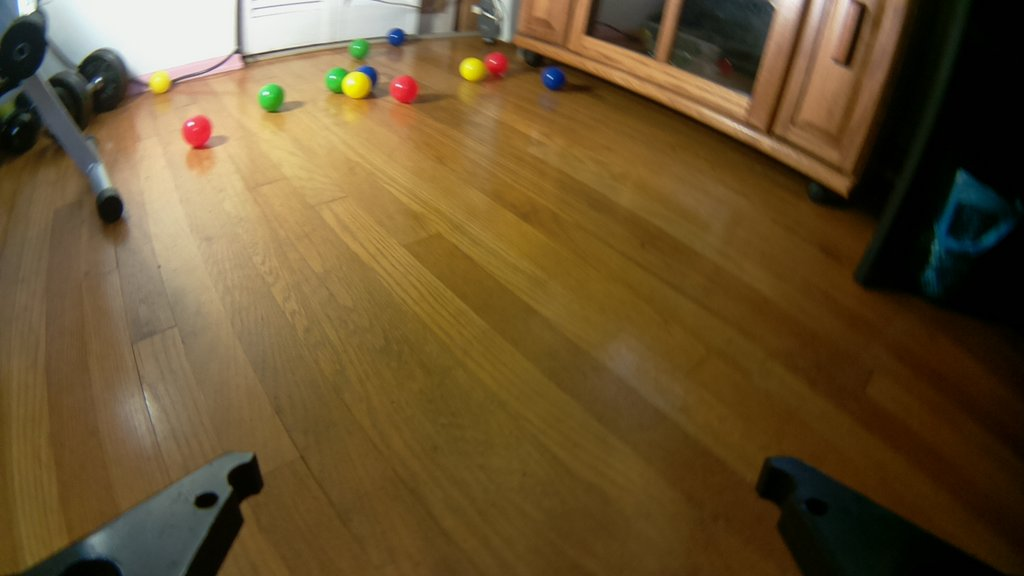home: (149, 72, 171, 93)
